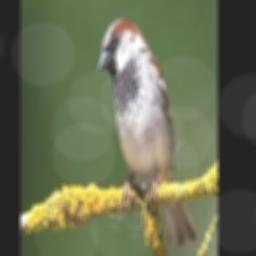Sparrow: (97, 16, 196, 244)
